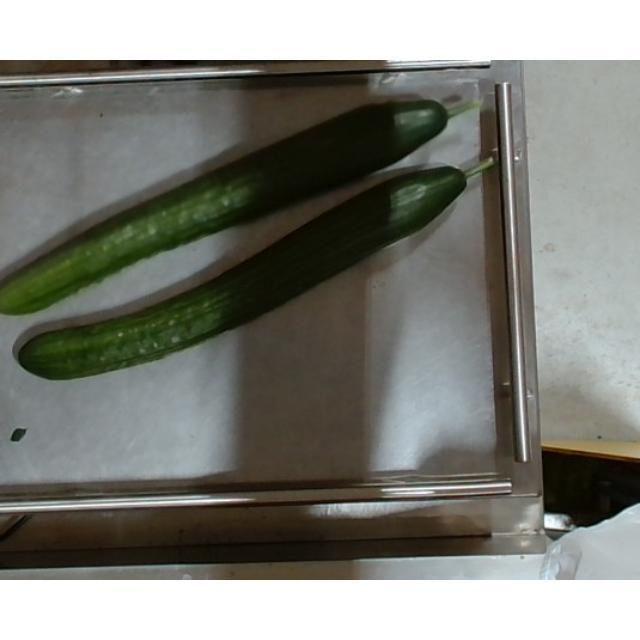cucumber: (18, 157, 496, 380), (1, 100, 483, 316)
